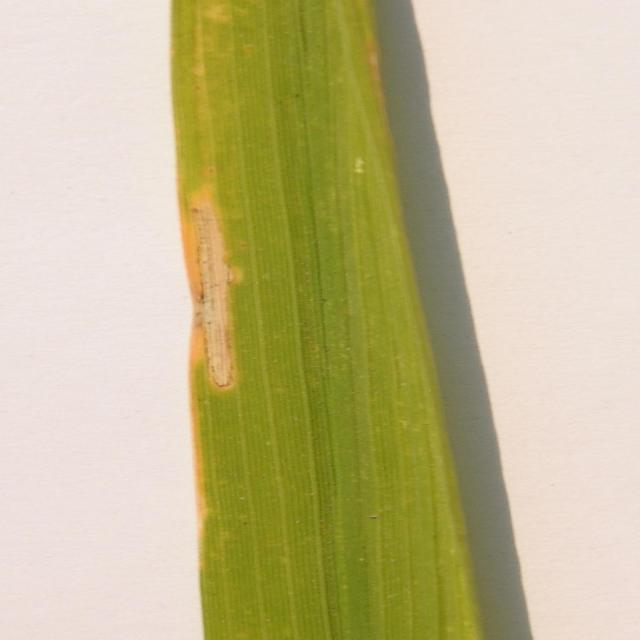Bacterial leaf blight: (126, 3, 537, 640)
